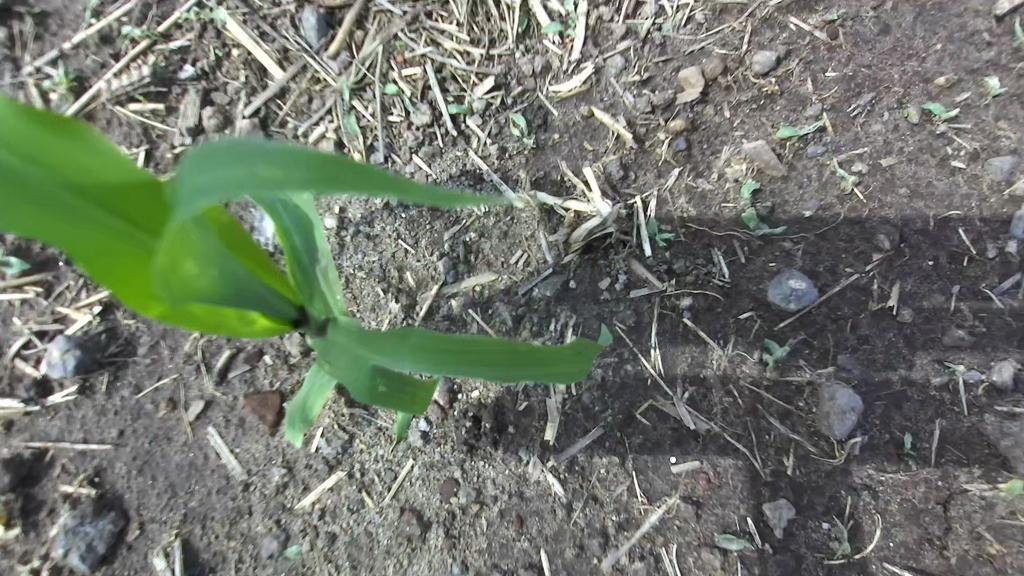BroWeed: (331, 79, 369, 168), (39, 57, 89, 107), (735, 178, 769, 232), (819, 157, 862, 198), (0, 240, 33, 285), (507, 107, 541, 150), (380, 78, 418, 116), (775, 115, 828, 141), (640, 215, 677, 250), (919, 98, 961, 126), (712, 531, 759, 556), (975, 68, 1009, 101), (771, 331, 804, 364), (281, 537, 316, 567), (924, 67, 959, 97), (759, 332, 789, 364), (546, 201, 577, 228), (834, 514, 852, 560), (504, 118, 530, 147), (540, 19, 576, 38), (176, 3, 204, 26), (939, 357, 966, 377), (821, 6, 848, 26), (748, 225, 787, 238), (899, 105, 920, 128), (1004, 477, 1024, 501), (901, 430, 917, 459), (762, 350, 778, 378), (322, 124, 340, 146), (119, 23, 148, 36), (1013, 15, 1024, 47), (352, 435, 369, 453), (612, 272, 627, 292), (447, 103, 471, 115), (389, 39, 405, 52), (0, 501, 7, 527), (132, 91, 147, 103), (548, 317, 556, 337), (212, 46, 225, 58), (566, 18, 577, 30), (660, 22, 673, 32), (618, 259, 625, 268)
Maize: (0, 71, 638, 518)
